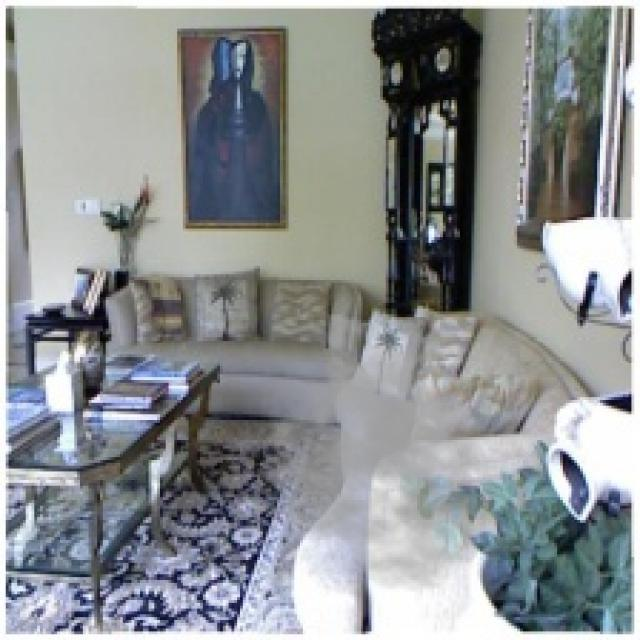Smoke: (254, 312, 509, 594)
